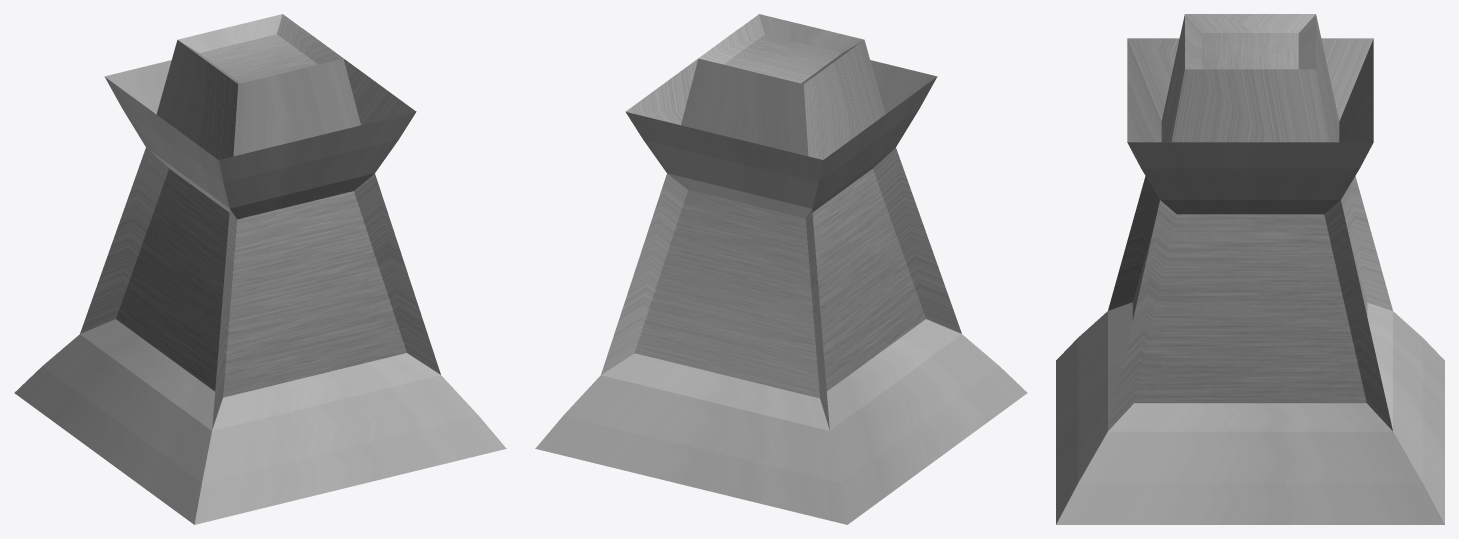
The model's file is Obstruction.fbx.
The picture shows the model from 3 angles, left to right: view 1: azimuth 30°, elevation 25°; view 2: azimuth 150°, elevation 25°; view 3: azimuth 270°, elevation 25°; orthographic projection. The views are drawn at different scales.
Visible parts, largest first — view 1: pCube8; view 2: pCube8; view 3: pCube8.
Part boxes in pixels (x1,y1,x2,y2): pCube8: (14, 14, 506, 524); pCube8: (535, 14, 1027, 524); pCube8: (1056, 14, 1444, 524).
Bounding box in the file's own units: 2.75 × 3.13 × 2.75.
Materials: 1 (1 with a texture image).
